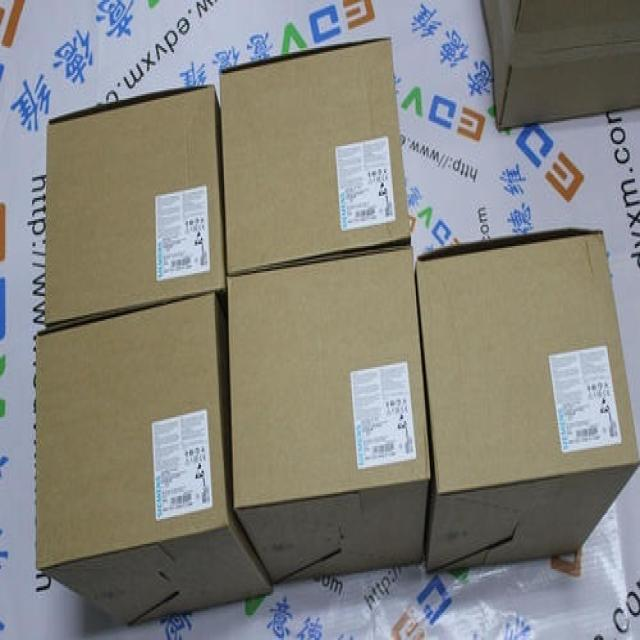box: (35, 292, 274, 628), (415, 227, 640, 577), (228, 246, 431, 588), (219, 37, 411, 277), (45, 83, 228, 325), (480, 0, 640, 129)
